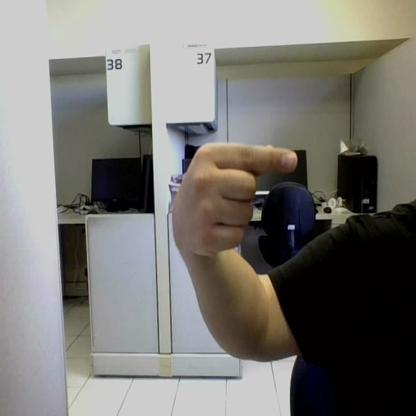G: (187, 143, 298, 255)
